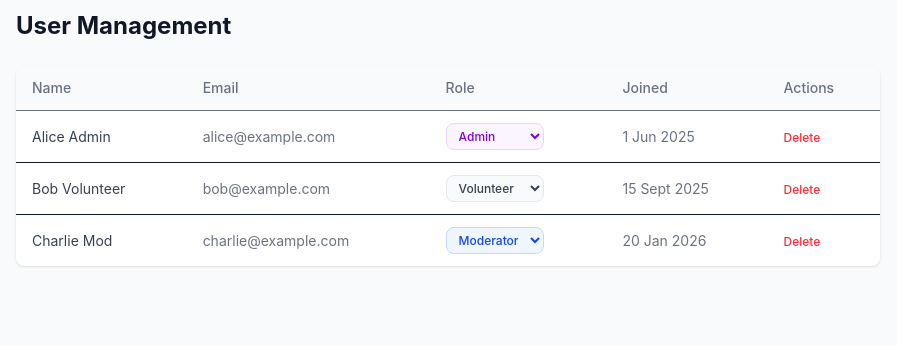
UserManagement › shows error when delete fails
Expected: the text "Alice Admin" is shown, left=16, top=110, right=187, bottom=162
Click the button "Delete" in the row of "Alice Admin" at (802, 138), box left=784, top=130, right=820, bottom=146
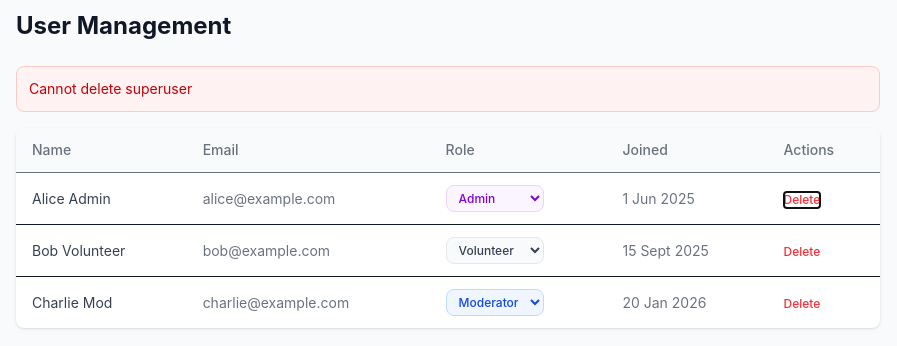
Now the text "Cannot delete superuser" is shown, box left=16, top=66, right=880, bottom=112
